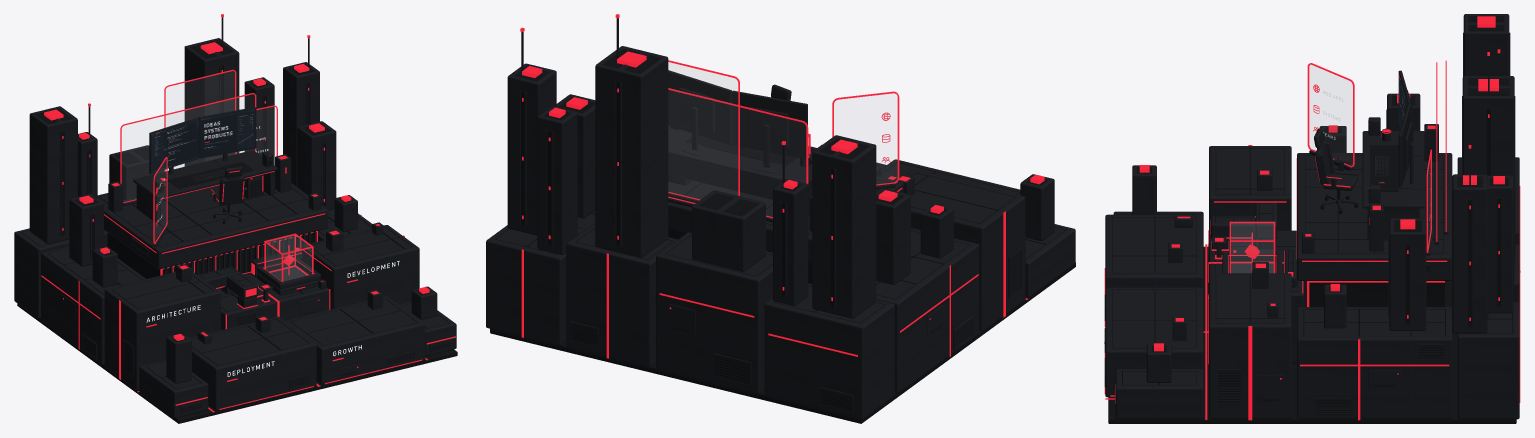
Rendered from about-workspace.glb.
3 views of the same model, side by side, from view 1: azimuth 30°, elevation 25°; view 2: azimuth 150°, elevation 25°; view 3: azimuth 270°, elevation 25° (orthographic). The views are drawn at different scales.
Visible parts, largest first — view 1: BASE_Static, PLT_Desk, PLT_Architecture, PLT_Deployment, PLT_Growth, PLT_Development, TOWER_01, SCREEN_Main, TOWER_04, DESK_Table, TOWER_09, TOWER_06 (+19 smaller); view 2: BASE_Static, TOWER_04, TOWER_01, PLT_Architecture, SCREEN_Main, PANEL_Center, TOWER_06, TOWER_05, DESK_Table, TOWER_03, TOWER_02, TOWER_07 (+7 smaller); view 3: BASE_Static, PLT_Development, PLT_Desk, PLT_Growth, PLT_Deployment, TOWER_06, TOWER_04, PLT_Architecture, TOWER_09, DESK_Table, TOWER_05, TOWER_01 (+20 smaller).
Part boxes in pixels (x1,y1,x2,y2): BASE_Static: (14, 193, 457, 423); PLT_Desk: (104, 173, 327, 269); PLT_Architecture: (104, 271, 220, 390); PLT_Deployment: (189, 316, 316, 410); PLT_Growth: (284, 296, 425, 385); PLT_Development: (301, 225, 419, 309); TOWER_01: (29, 106, 77, 243); SCREEN_Main: (149, 107, 256, 179); TOWER_04: (184, 14, 239, 166); DESK_Table: (133, 150, 277, 223); TOWER_09: (297, 121, 336, 210); TOWER_06: (283, 35, 319, 186); BASE_Static: (486, 165, 1075, 423); TOWER_04: (595, 14, 668, 257); TOWER_01: (812, 135, 876, 318); PLT_Architecture: (906, 169, 1025, 331); SCREEN_Main: (668, 70, 807, 173); PANEL_Center: (668, 60, 808, 222); TOWER_06: (507, 27, 556, 235); TOWER_05: (537, 106, 577, 254); DESK_Table: (668, 126, 812, 216); TOWER_03: (692, 190, 765, 271); TOWER_02: (773, 141, 808, 305); TOWER_07: (876, 188, 910, 284); BASE_Static: (1105, 157, 1520, 423); PLT_Development: (1209, 273, 1291, 419); PLT_Desk: (1297, 153, 1452, 280); PLT_Growth: (1104, 287, 1203, 397); PLT_Deployment: (1104, 214, 1203, 320); TOWER_06: (1451, 145, 1488, 333); TOWER_04: (1462, 52, 1515, 268); PLT_Architecture: (1209, 146, 1291, 231); TOWER_09: (1388, 218, 1426, 330); DESK_Table: (1362, 131, 1424, 240); TOWER_05: (1487, 175, 1514, 313); TOWER_01: (1463, 14, 1510, 76).
Bounding box in the file's own units: 4.02 × 3.4 × 4.02.
Materials: 6 (1 with a texture image).
